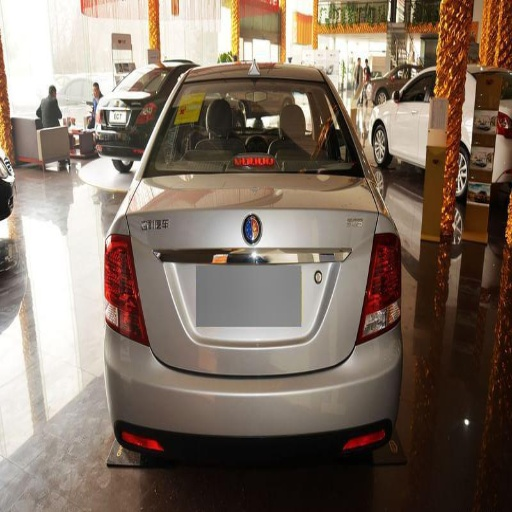back_bumper: (106, 327, 396, 466)
tailgate: (126, 174, 379, 374)
